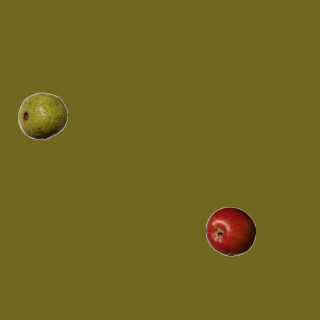Apple Braeburn: (205, 206, 255, 256)
Guava: (17, 90, 67, 140)
